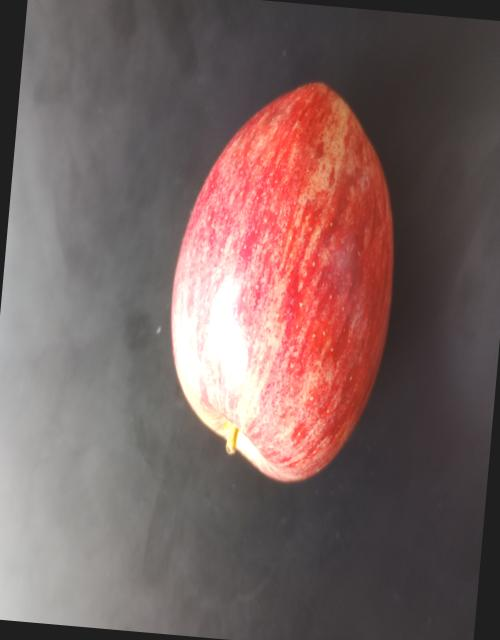Manzana: (100, 68, 445, 540)
